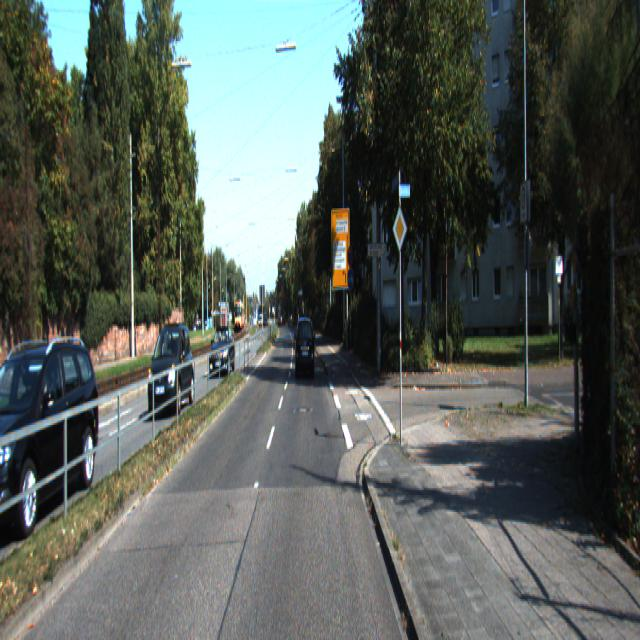Car: (0, 330, 102, 550), (148, 322, 196, 421), (209, 322, 236, 376), (296, 316, 315, 382)
